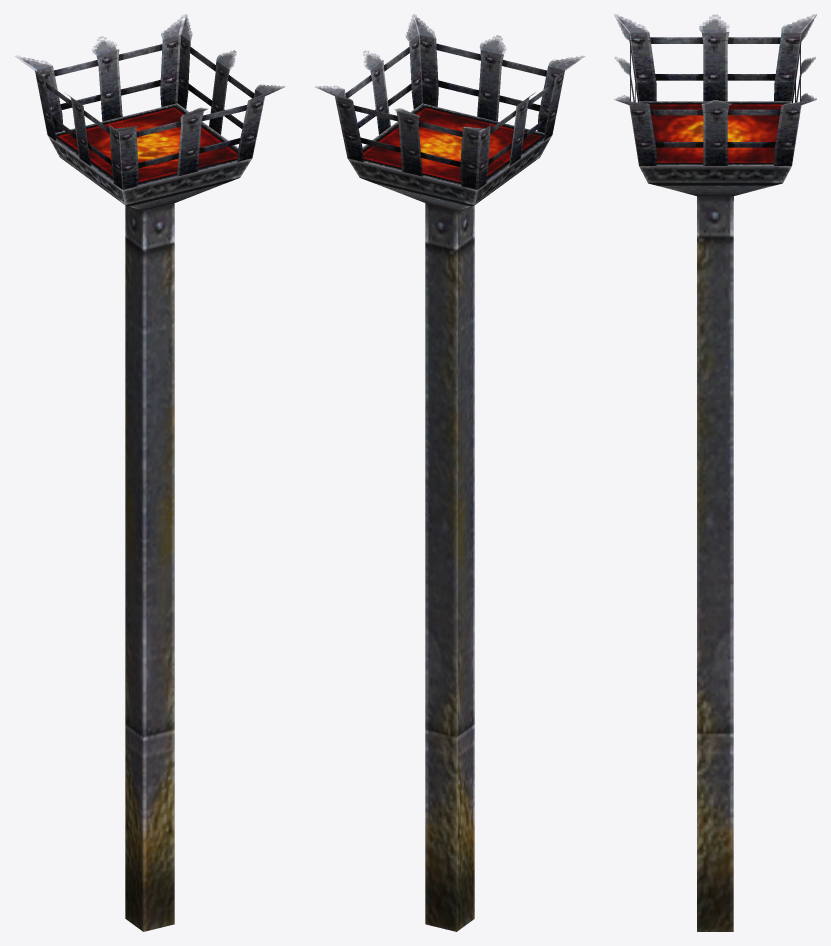
File: tn3_light03.glb
3 renders of one model, left to right at view 1: azimuth 30°, elevation 25°; view 2: azimuth 150°, elevation 25°; view 3: azimuth 270°, elevation 25°, orthographic. The views are drawn at different scales.
Visible parts, largest first — view 1: tn3_light03; view 2: tn3_light03; view 3: tn3_light03.
Part boxes in pixels (x1,y1,x2,y2): tn3_light03: (14, 14, 285, 931); tn3_light03: (314, 14, 585, 931); tn3_light03: (614, 14, 816, 931).
Size of the model in its own units: 0.5501 by 2.59 by 0.5501.
2 materials, 2 textured.
